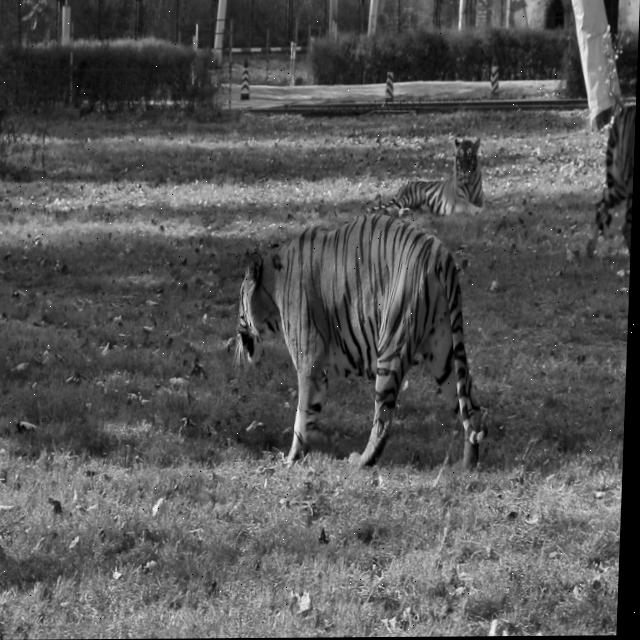Tiger: (226, 211, 497, 475), (367, 135, 489, 218), (585, 93, 636, 259)
